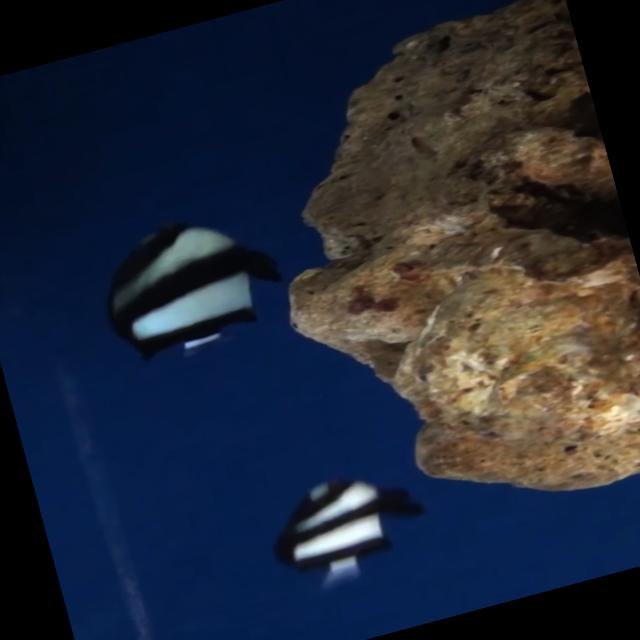ThreeStripedDamselfish: (106, 220, 283, 361), (273, 475, 423, 587)
